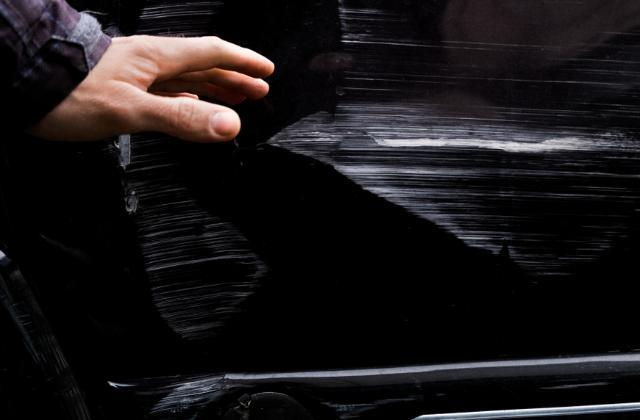Door: (127, 6, 637, 341)
